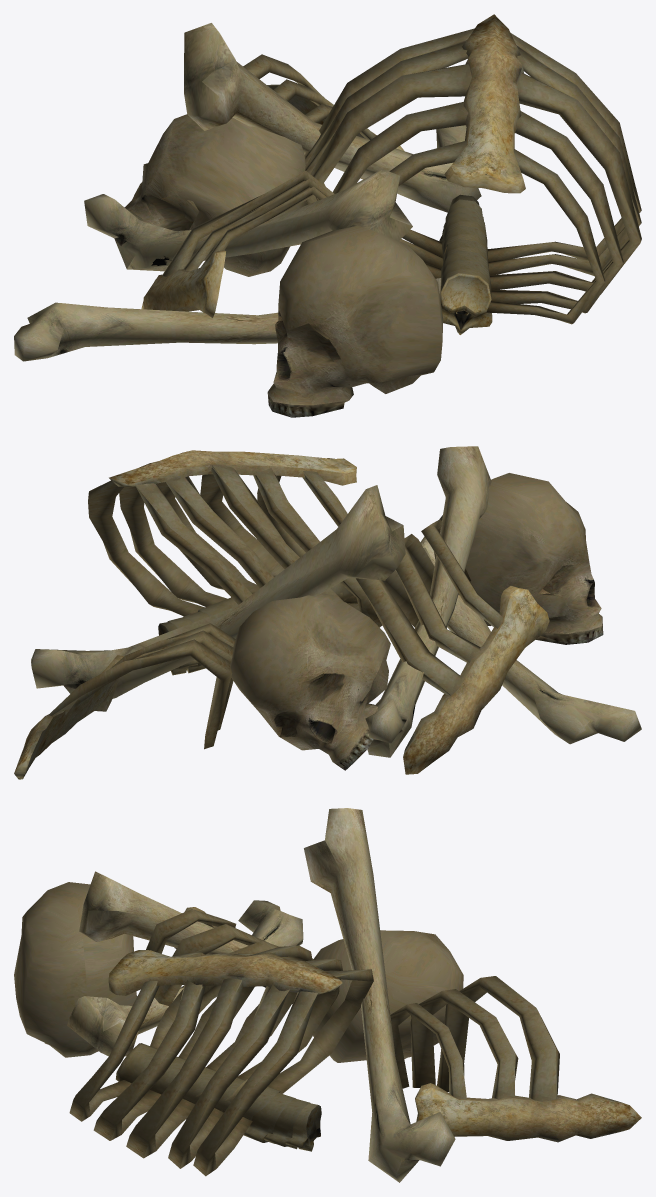
Rendered from bone_pile_human1.dae.
3 renders of one model, top to bottom at view 1: azimuth 30°, elevation 25°; view 2: azimuth 150°, elevation 25°; view 3: azimuth 270°, elevation 25°, orthographic. The views are drawn at different scales.
Visible parts, largest first — view 1: ribbcage, polySurface3, polySurface52, polySurface56, polySurface1, polySurface54, polySurface77, polySurface76; view 2: ribbcage, polySurface52, polySurface77, polySurface3, polySurface56, polySurface1, polySurface76, polySurface54; view 3: ribbcage, polySurface76, polySurface56, polySurface3, polySurface52, polySurface54, polySurface1, polySurface77.
Part boxes in pixels (x1,y1,x2,y2): ribbcage: (304, 14, 641, 334); polySurface3: (267, 226, 442, 417); polySurface52: (125, 114, 307, 276); polySurface56: (184, 23, 481, 212); polySurface1: (84, 169, 412, 271); polySurface54: (14, 278, 441, 361); polySurface77: (141, 170, 333, 317); polySurface76: (243, 54, 404, 151); ribbcage: (88, 450, 396, 675); polySurface52: (230, 593, 390, 770); polySurface77: (356, 519, 549, 774); polySurface3: (434, 473, 603, 644); polySurface56: (31, 485, 405, 698); polySurface1: (365, 446, 491, 757); polySurface76: (14, 623, 235, 779); polySurface54: (420, 536, 641, 744); ribbcage: (69, 945, 373, 1176); polySurface76: (390, 976, 641, 1142); polySurface56: (304, 808, 455, 1182); polySurface3: (14, 882, 137, 1057); polySurface52: (313, 930, 463, 1062); polySurface54: (67, 900, 303, 1056); polySurface1: (79, 871, 248, 955); polySurface77: (146, 907, 313, 1013).
Size of the model in its own units: 1.09 by 0.505 by 1.11.
